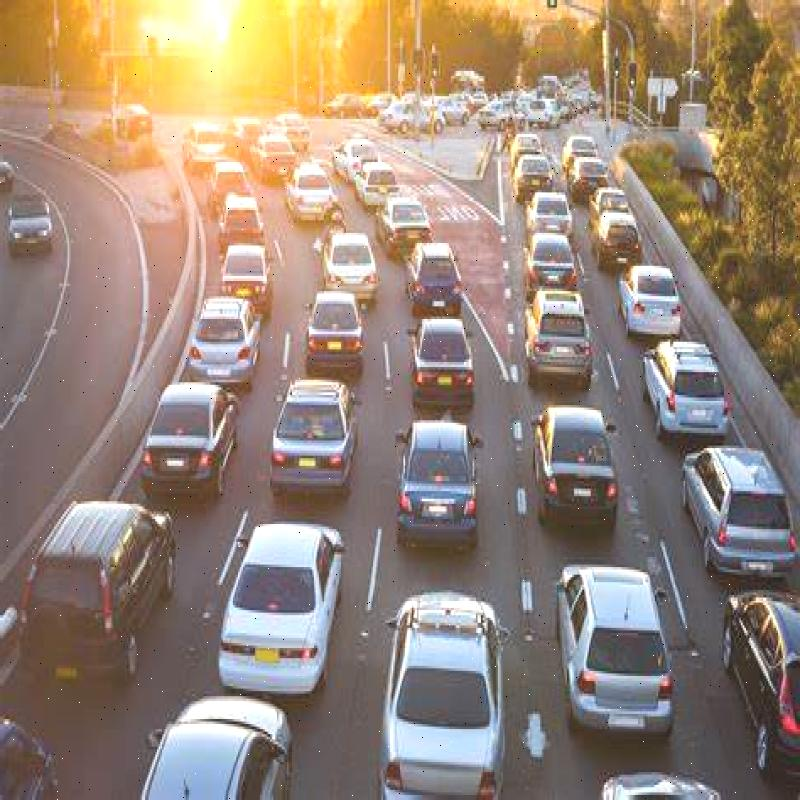car: (34, 494, 170, 701), (383, 581, 503, 800), (222, 505, 352, 700), (572, 566, 670, 724), (137, 707, 297, 800), (693, 416, 781, 582), (716, 581, 800, 750), (387, 416, 478, 550), (263, 371, 351, 504), (138, 380, 230, 499), (626, 330, 722, 440), (533, 400, 607, 523), (396, 239, 464, 334), (410, 322, 473, 412), (310, 230, 377, 312), (615, 256, 680, 340), (305, 295, 367, 377), (592, 188, 649, 273), (262, 169, 327, 241), (532, 297, 591, 371), (384, 176, 424, 260), (259, 100, 301, 174), (530, 237, 579, 296), (516, 138, 553, 195), (571, 148, 608, 204), (364, 146, 392, 210), (532, 190, 567, 241)
